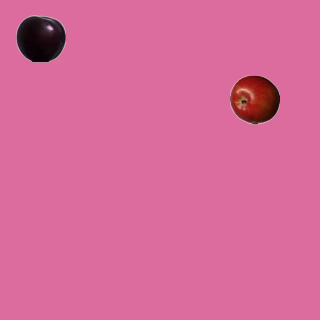Apple Braeburn: (229, 74, 279, 124)
Cherry Wax Black: (15, 13, 65, 63)
